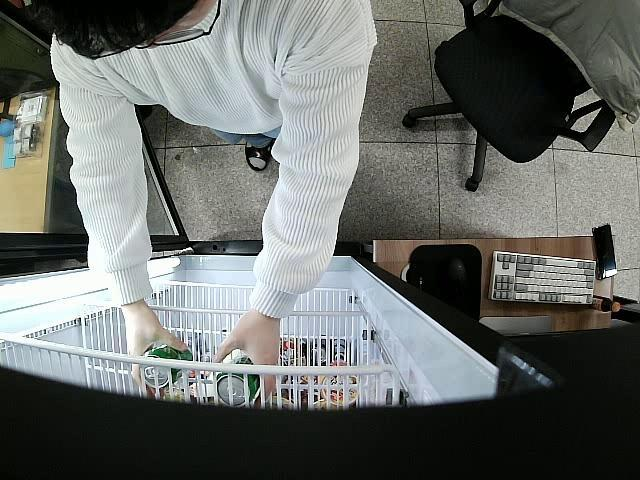12_chilsungCider: (214, 354, 260, 407), (138, 346, 194, 388)
